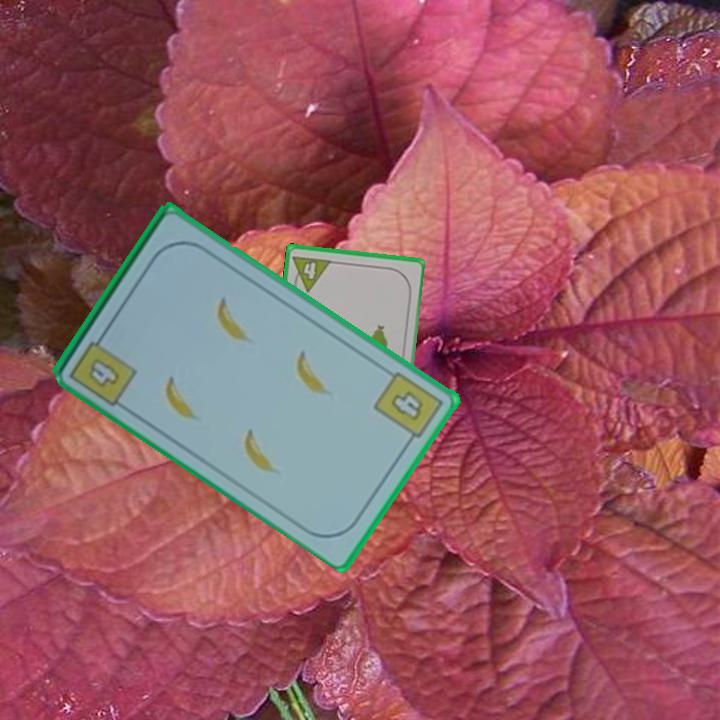4b: (370, 367, 446, 448), (66, 327, 140, 409)
4p: (289, 252, 334, 294)
